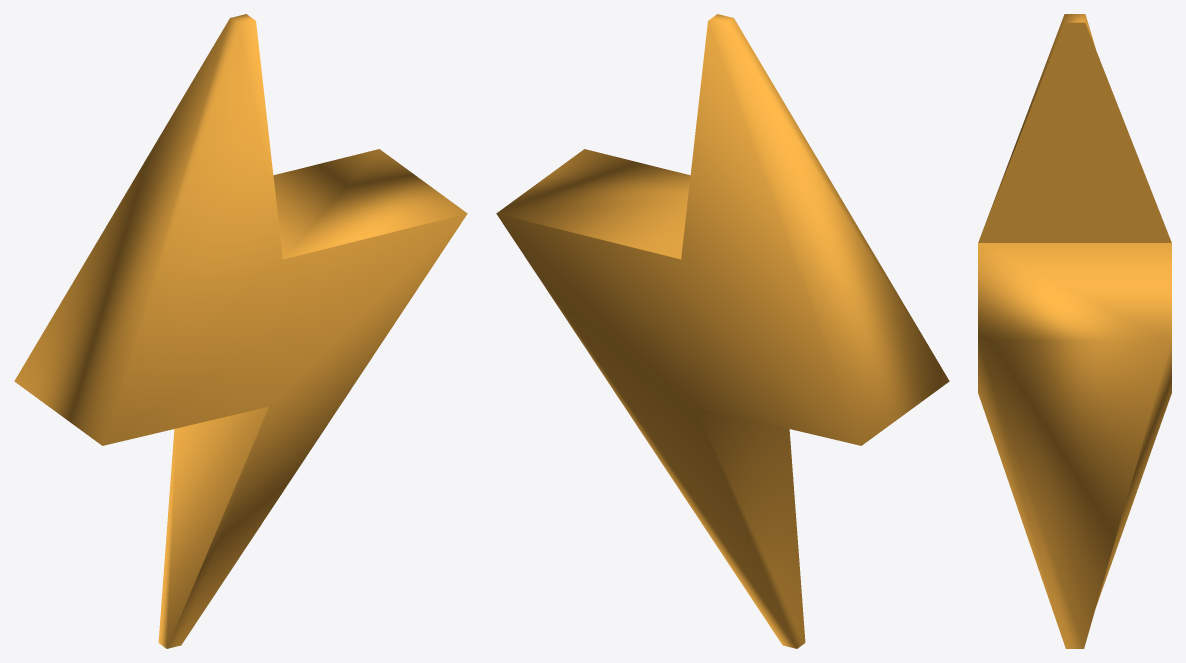
File: ThunderBolt.fbx
3 renders of one model, left to right at view 1: azimuth 30°, elevation 25°; view 2: azimuth 150°, elevation 25°; view 3: azimuth 270°, elevation 25°, orthographic. The views are drawn at different scales.
Visible parts, largest first — view 1: THUNDERBOLT; view 2: THUNDERBOLT; view 3: THUNDERBOLT.
Part boxes in pixels (x1=…): THUNDERBOLT: x1=14, y1=14, x2=467, y2=648; THUNDERBOLT: x1=496, y1=14, x2=949, y2=648; THUNDERBOLT: x1=978, y1=14, x2=1171, y2=648.
Size of the model in its own units: 10.29 by 16.34 by 4.31.
